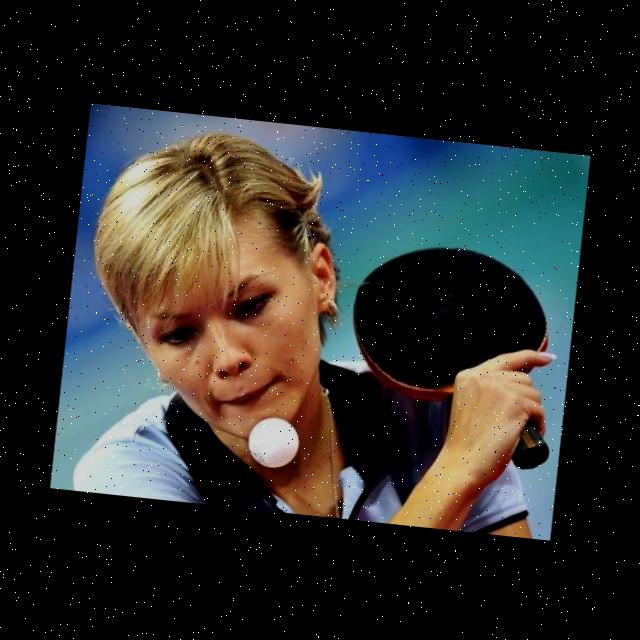ping-pong-ball: (244, 412, 302, 473)
